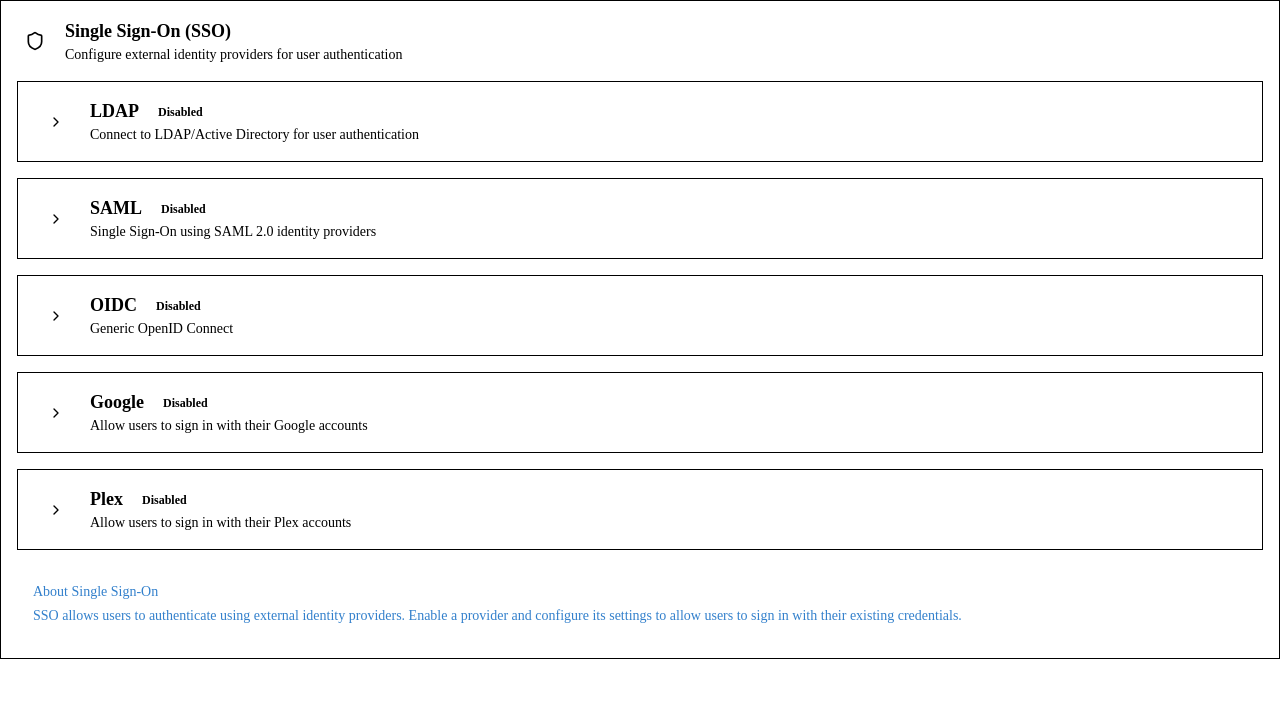
Scenario: accepts an empty provider list as a new provider draft baseline
Step 1. Click the button named "Configure Google" → (56, 412), box [34,390,78,434]
(page scrolled)
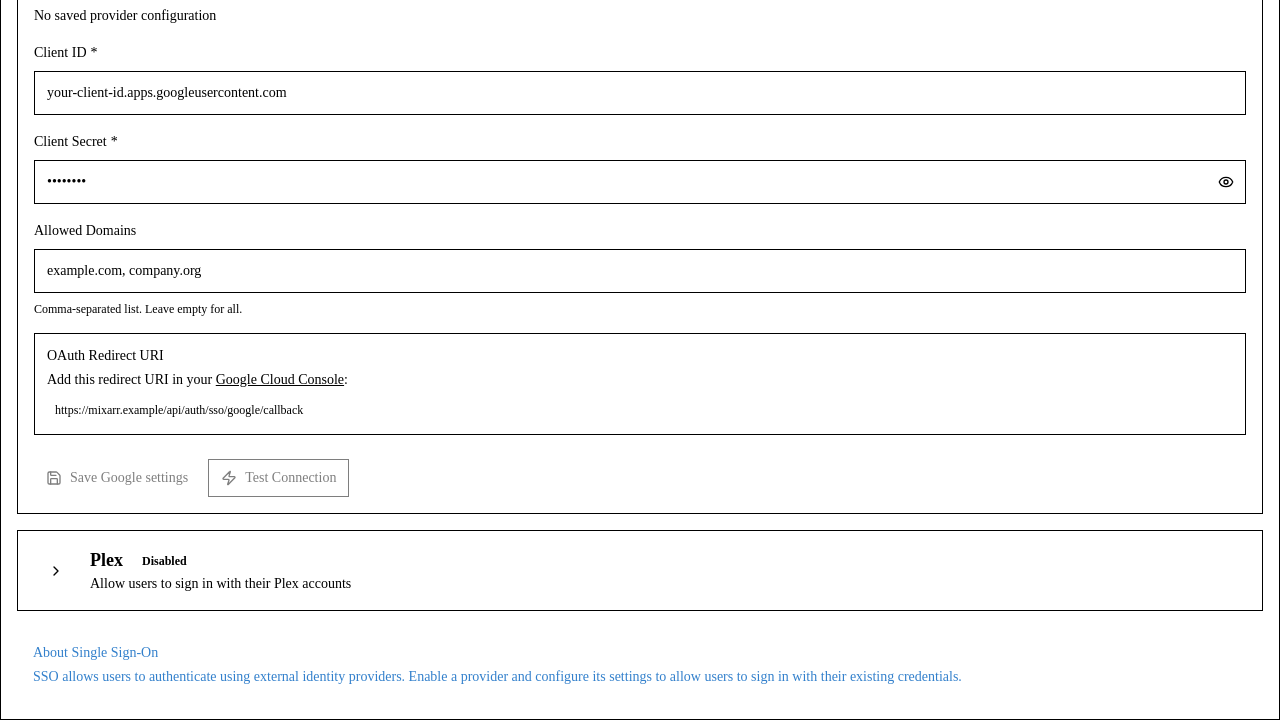
Check: the text "No saved provider configuration" is shown, box [34,8,216,23]
Check: the field labelled "Client ID" is empty, box [34,71,1246,115]
Check: the button "Save Google settings" is disabled, box [34,459,200,497]
